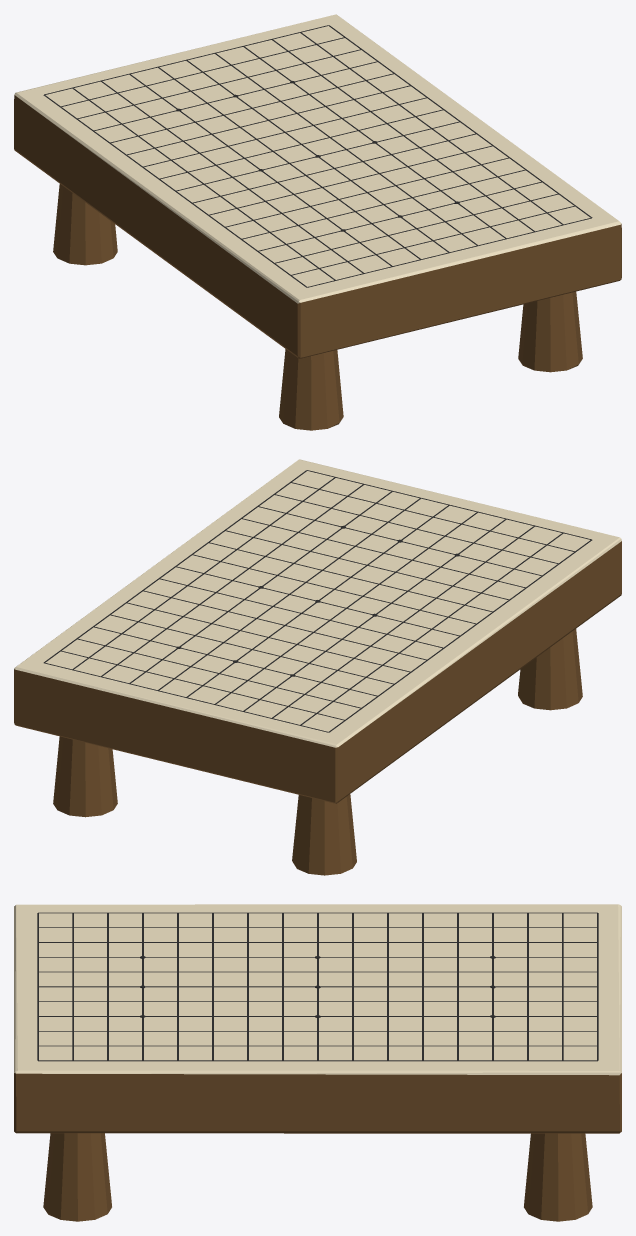
Rendered from board_default_lod1.glb.
3 views of the same model, one above another, from view 1: azimuth 30°, elevation 25°; view 2: azimuth 150°, elevation 25°; view 3: azimuth 270°, elevation 25° (orthographic). The views are drawn at different scales.
Visible parts, largest first — view 1: board_default_lod1; view 2: board_default_lod1; view 3: board_default_lod1.
Part boxes in pixels (left/top/right/bottom): board_default_lod1: left=14, top=14, right=621, bottom=430; board_default_lod1: left=14, top=459, right=621, bottom=875; board_default_lod1: left=14, top=904, right=621, bottom=1221.
Size of the model in its own units: 0.3417 by 0.1508 by 0.5214.
